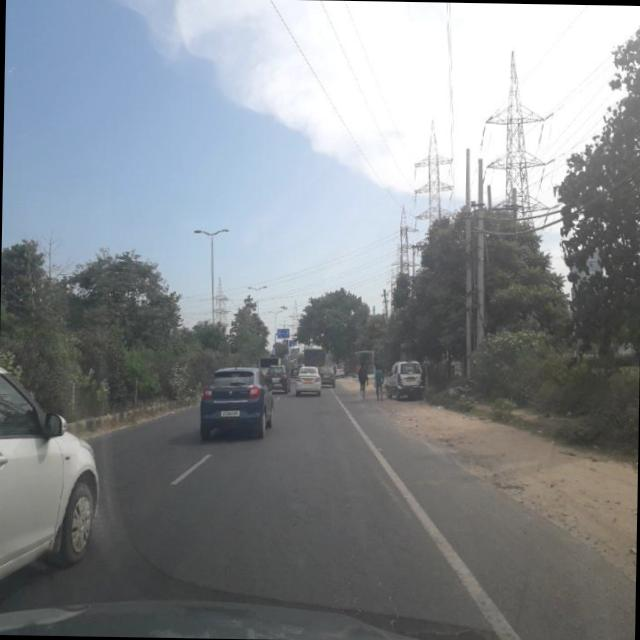crack: (144, 442, 452, 630)
